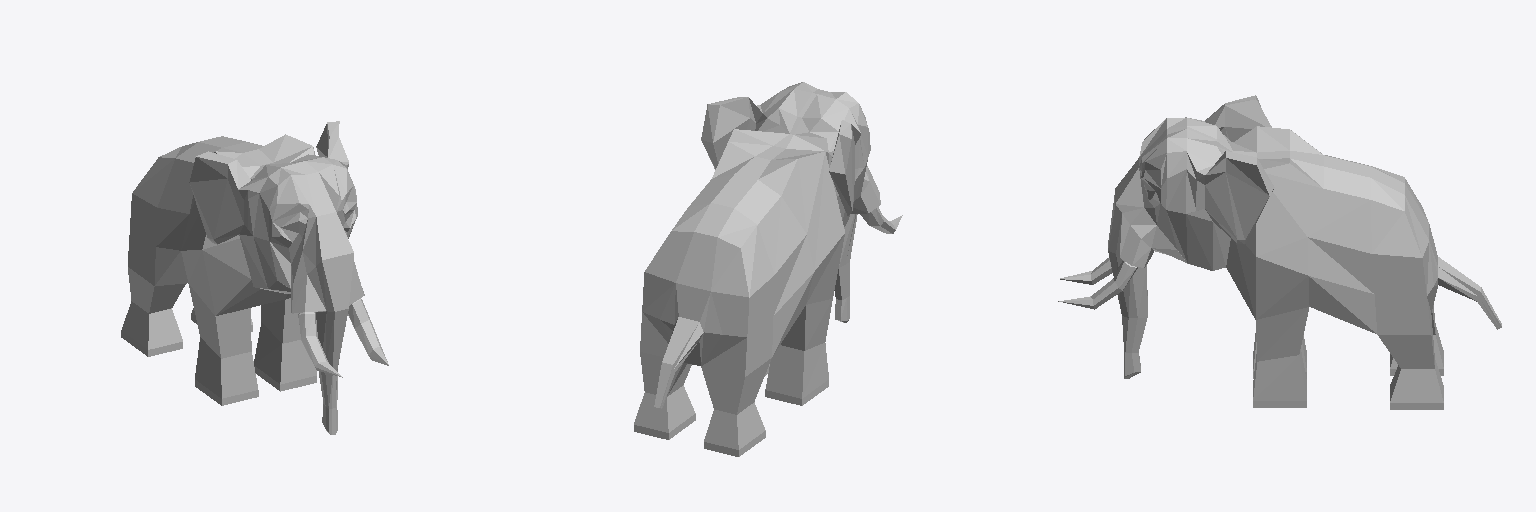
File: Elephant_Tusked.obj
3 views of the same model, side by side, from view 1: azimuth 30°, elevation 25°; view 2: azimuth 150°, elevation 25°; view 3: azimuth 270°, elevation 25° (orthographic).
Visible parts, largest first — view 1: Elephant_mesh; view 2: Elephant_mesh; view 3: Elephant_mesh.
Part boxes in pixels (left/top/right/bottom): Elephant_mesh: left=121, top=121, right=388, bottom=434; Elephant_mesh: left=634, top=82, right=902, bottom=456; Elephant_mesh: left=1058, top=95, right=1501, bottom=409.
Size of the model in its own units: 3.95 by 6.74 by 10.56.